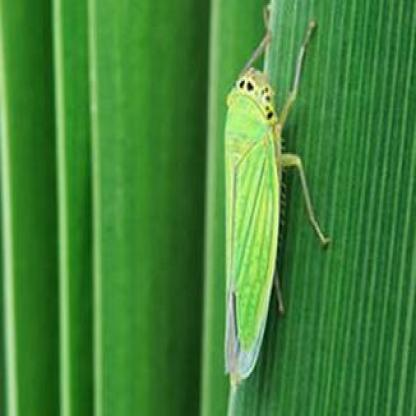Green-Leafhopper: (202, 1, 325, 386)
